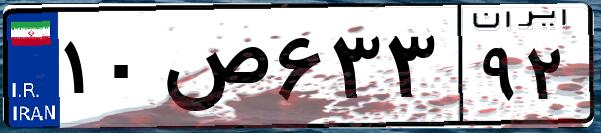0: (110, 28, 158, 98)
1: (57, 26, 110, 100)
2: (525, 38, 570, 115)
3: (385, 28, 445, 110), (330, 28, 385, 110)
6: (270, 28, 330, 110)
9: (475, 38, 525, 113)
ص: (158, 20, 270, 120)
